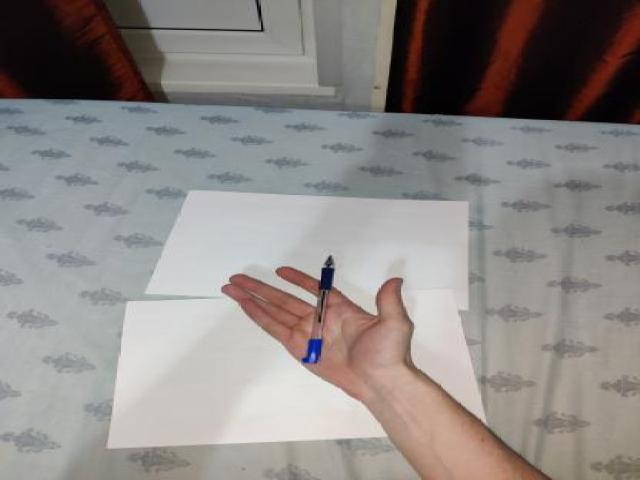PEN: (296, 250, 333, 368)
